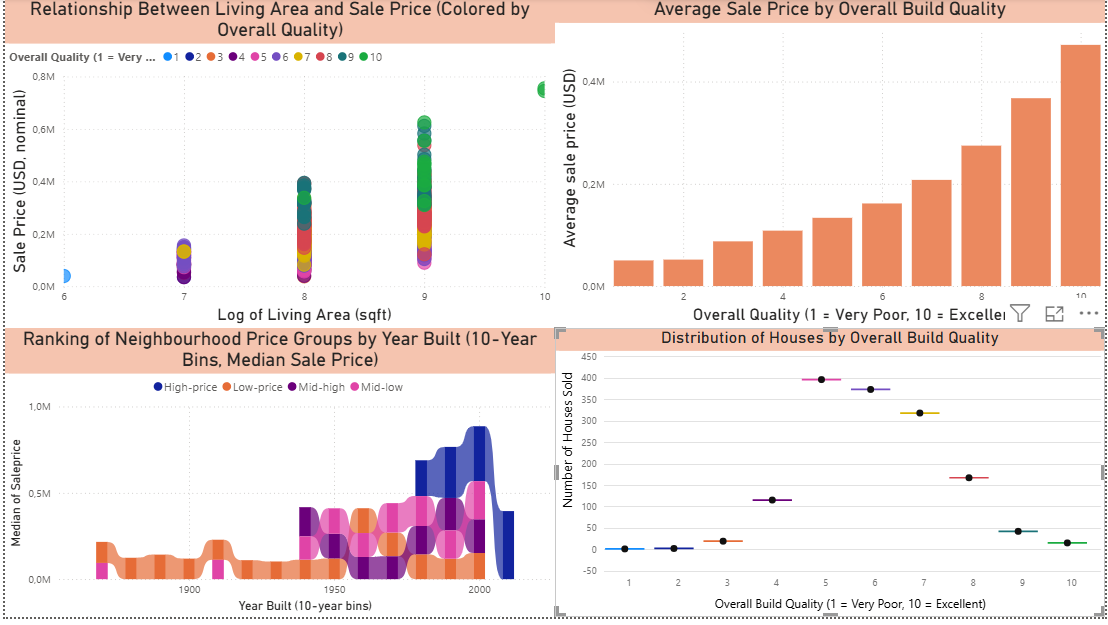

The dashboard page shown, as its layout file describes it:
{"tool":"powerbi","page":{"name":"Dashboard","canvas":[1280,720],"ordinal":4},"visuals":[{"type":"scatterChart","title":"Relationship Between Living Area and Sale Price (Colored by Overall Quality)","fields":{"X":["Cleaned train.GrLivArea"],"Y":["Avg(Cleaned train.Saleprice)"],"Series":["Cleaned train.OverallQual"]},"box":[0,0,640,384],"z":0},{"type":"clusteredColumnChart","title":"Average Sale Price by Overall Build Quality","fields":{"Category":["Cleaned train.OverallQual"],"Y":["Avg(Cleaned train.Saleprice)"]},"box":[640,0,640,384],"z":1},{"type":"ribbonChart","title":"Ranking of Neighbourhood Price Groups by Year Built (10-Year Bins, Median Sale Price)","fields":{"Y":["Median(Cleaned_train.Saleprice)"],"Series":["Cleaned_train.Neighbourhood_Price_Group"],"Category":["Cleaned_train.YearBuilt (bins)"]},"box":[0,384,640,336],"z":2},{"type":"BoxWhiskerChart1455240051538","title":"Distribution of Houses by Overall Build Quality","fields":{"Groups":["Cleaned_train.OverallQual"],"Values":["CountNonNull(Cleaned_train.Saleprice)"]},"box":[640,384,640,336],"z":3}]}

Visuals, with their boxes in screenshot pixels (x1, y1, x2, y2), scaled from the page's 1280x720 canvas onto the 1108x625 screenshot:
"Relationship Between Living Area and Sale Price (Colored by Overall Quality)" scatterChart: [x1=0, y1=0, x2=554, y2=333]
"Average Sale Price by Overall Build Quality" clusteredColumnChart: [x1=554, y1=0, x2=1107, y2=333]
"Ranking of Neighbourhood Price Groups by Year Built (10-Year Bins, Median Sale Price)" ribbonChart: [x1=0, y1=333, x2=554, y2=624]
"Distribution of Houses by Overall Build Quality" BoxWhiskerChart1455240051538: [x1=554, y1=333, x2=1107, y2=624]
